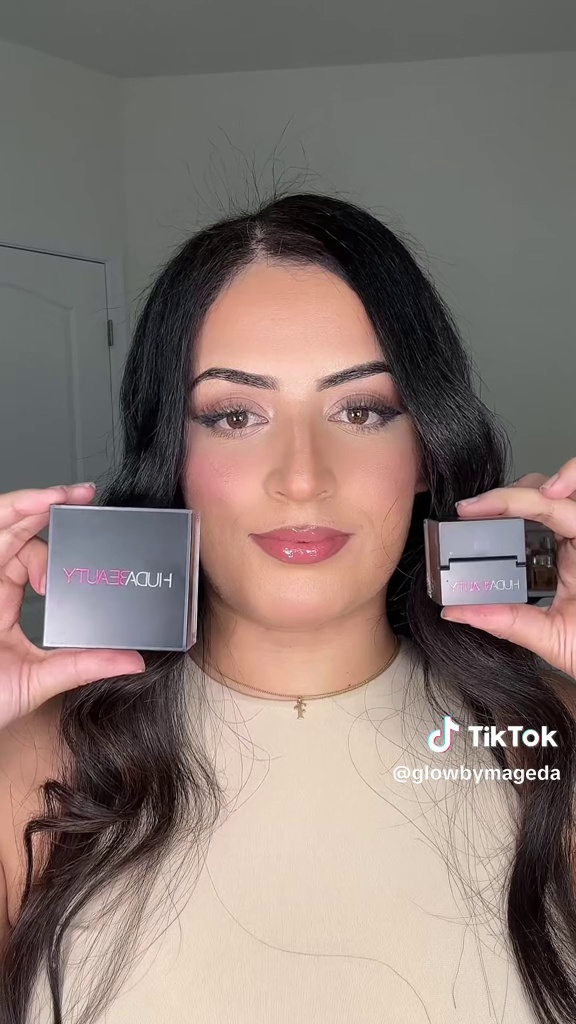train' :'yolo_data/train/images',: (30, 495, 213, 666), (408, 509, 541, 620)
